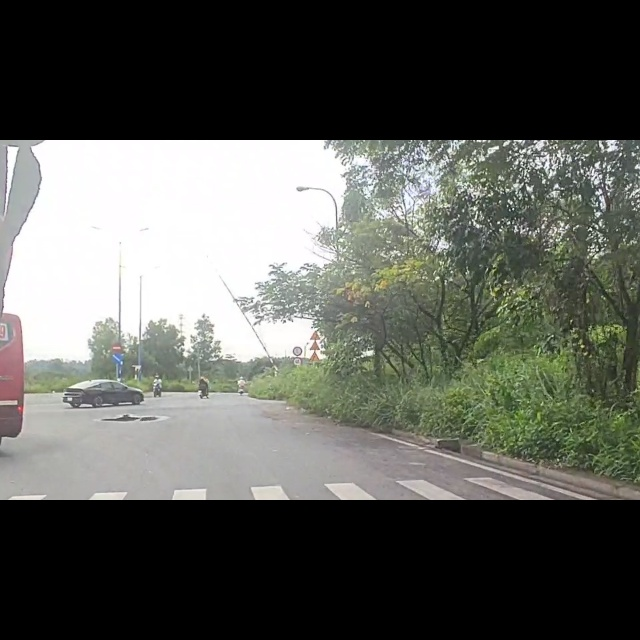bien_nguy_hiem: (309, 372, 322, 396), (112, 377, 125, 398), (293, 384, 305, 402), (113, 358, 123, 379)
